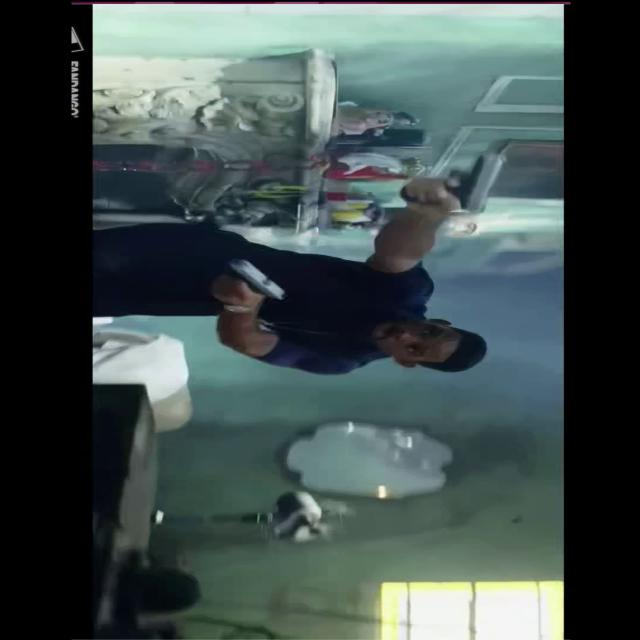weapons: (402, 145, 522, 224), (217, 243, 299, 304)
